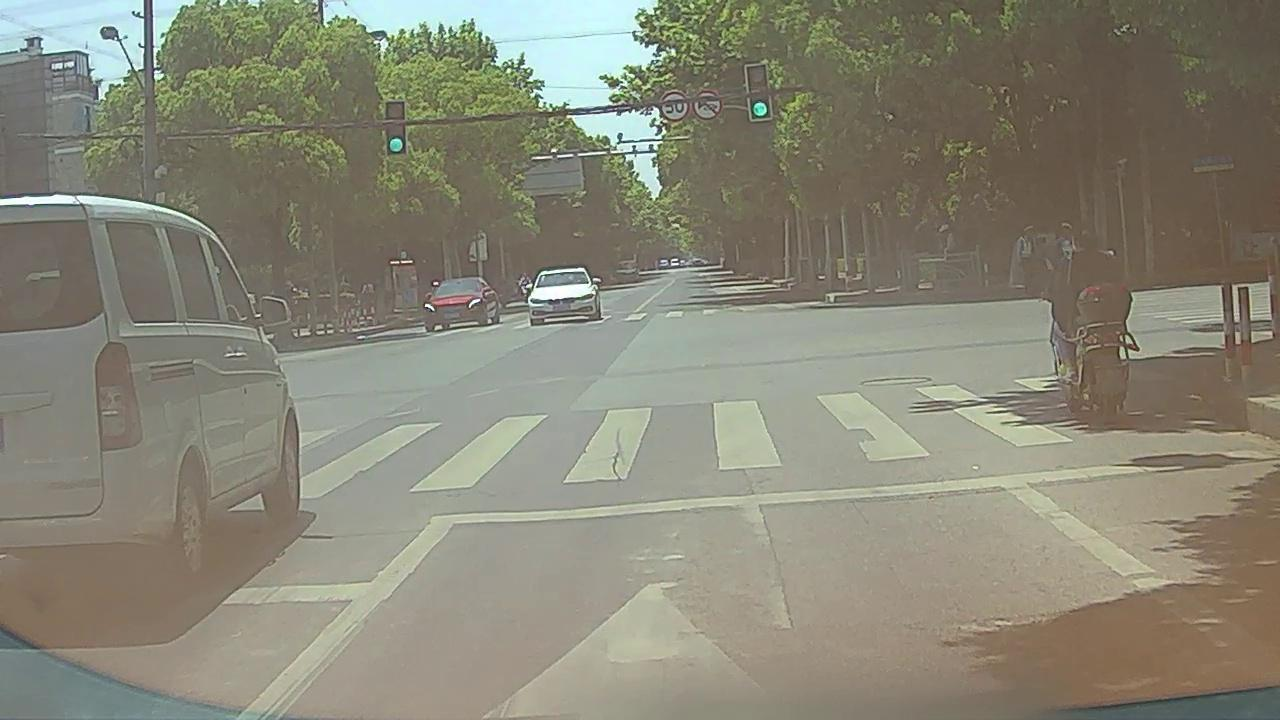traffic_light: (748, 67, 771, 121), (387, 102, 406, 154)
